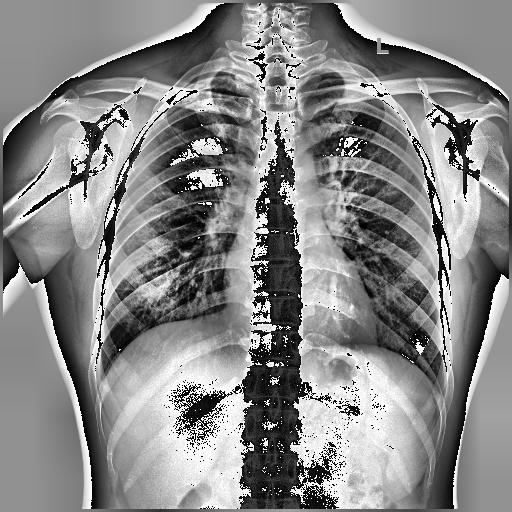11- Pleural thickening: (355, 75, 386, 101), (319, 68, 358, 79), (152, 108, 168, 122)
13- Pulmonary fibrosis: (170, 113, 196, 144), (164, 120, 194, 146)
5- ILD: (135, 278, 199, 329)
